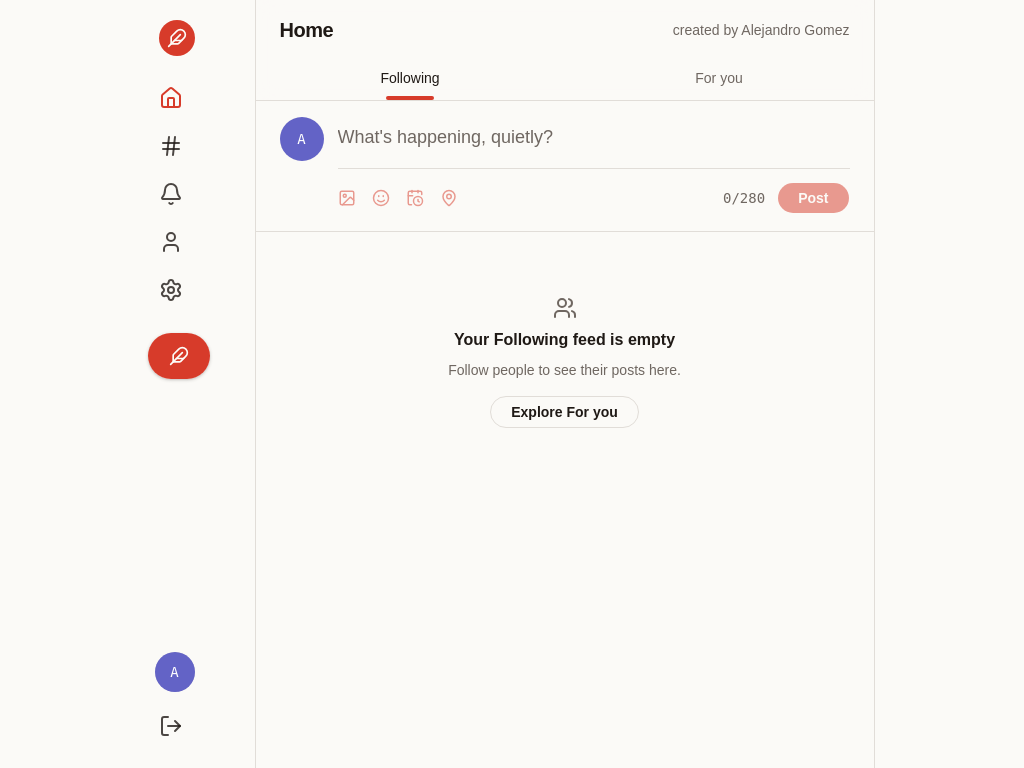
Test case: AppShell › marks Profile active after navigating to /u/ada
Expected: the header is shown, left=146, top=20, right=210, bottom=738
Click the link named "Profile" at (170, 242), box left=158, top=230, right=182, bottom=254
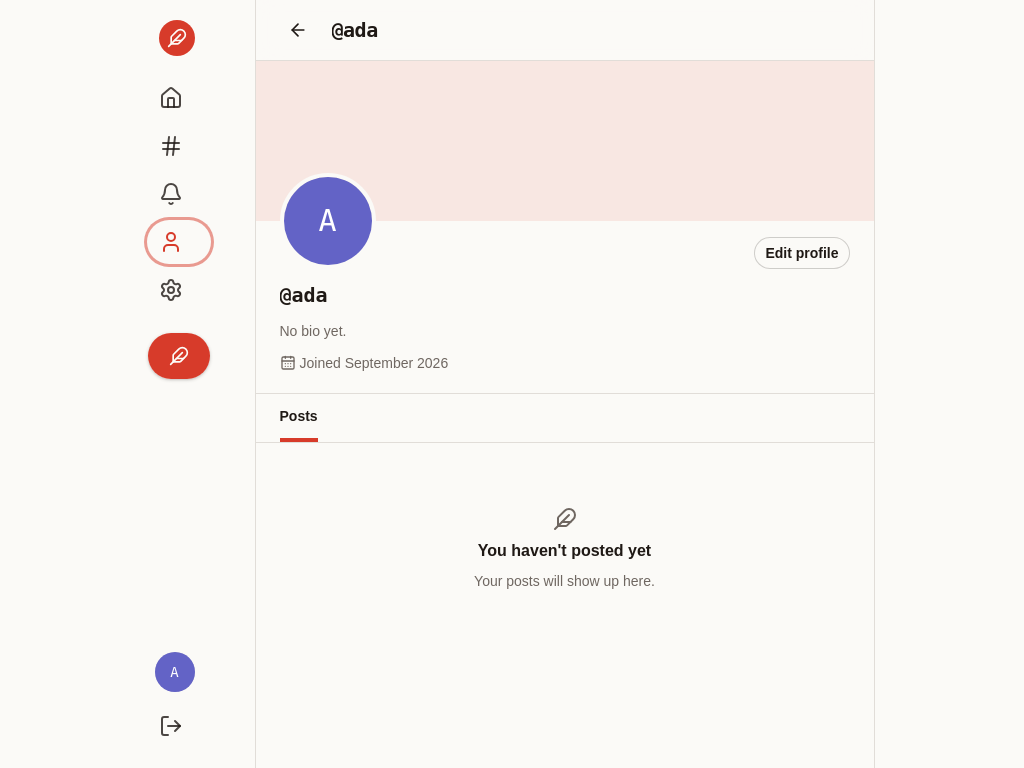
Result: the heading "@ada" is shown at left=332, top=18, right=378, bottom=42
